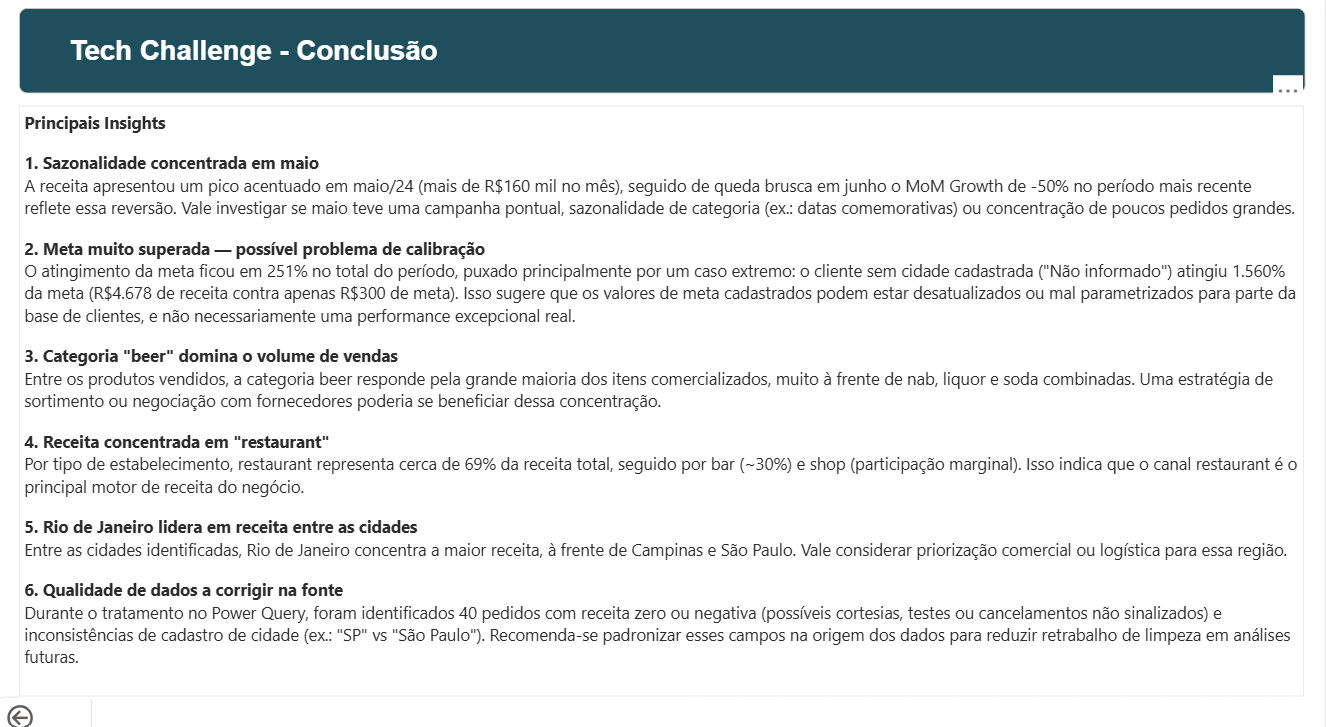

The dashboard page shown, as its layout file describes it:
{"tool":"powerbi","page":{"name":"Conclusão","canvas":[1280,720],"ordinal":4},"visuals":[{"type":"actionButton","box":[0,679.7,89.3,40.3],"z":1000},{"type":"textbox","box":[18.7,14.4,1241.3,82.1],"z":1001},{"type":"textbox","box":[18.7,108,1241.3,571.7],"z":1002}]}

Visuals, with their boxes on the page's 1280x720 design canvas (x1, y1, x2, y2). These are canvas units, not pixel positions in the 1326x727 screenshot, which may show the page scaled, cropped or inside an application window:
actionButton: 0,680,89,720
textbox: 19,14,1260,96
textbox: 19,108,1260,680
